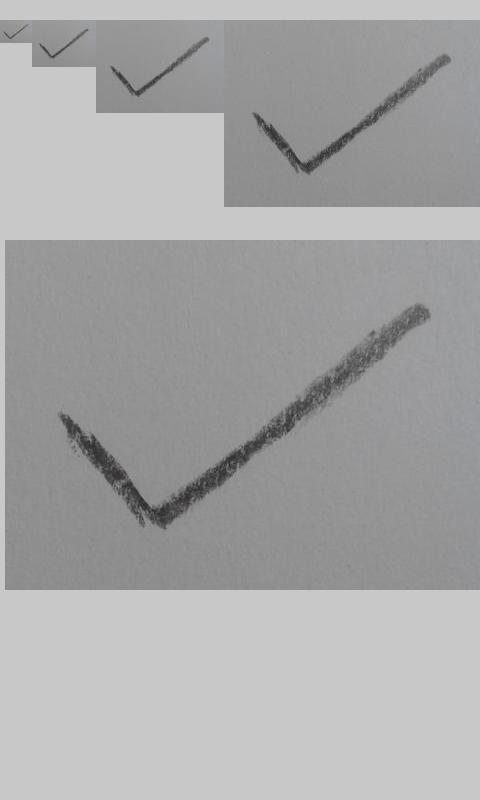check_box: (63, 306, 428, 528), (254, 54, 449, 174), (111, 37, 208, 96), (39, 29, 88, 59), (3, 24, 28, 39)
